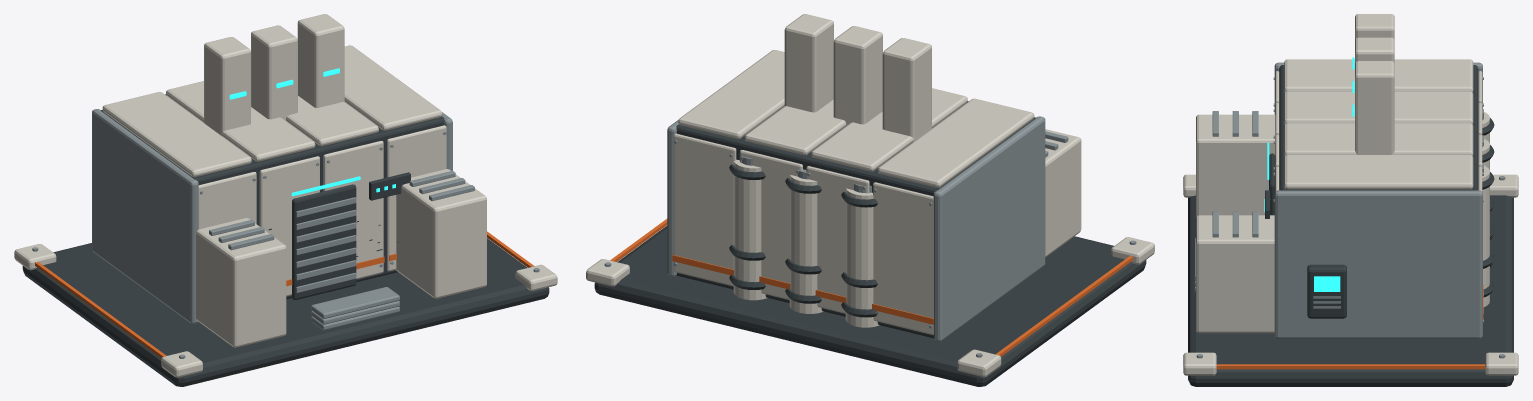
The model's file is SM_HighDensityPowerPlant_Body.002.fbx.
3 renders of one model, left to right at view 1: azimuth 30°, elevation 25°; view 2: azimuth 150°, elevation 25°; view 3: azimuth 270°, elevation 25°, orthographic. The views are drawn at different scales.
Visible parts, largest first — view 1: SM_HighDensityPowerPlant_Body.002; view 2: SM_HighDensityPowerPlant_Body.002; view 3: SM_HighDensityPowerPlant_Body.002.
Part boxes in pixels (box(x1,y1,x2,y2)): SM_HighDensityPowerPlant_Body.002: box(14, 14, 557, 386); SM_HighDensityPowerPlant_Body.002: box(586, 14, 1154, 386); SM_HighDensityPowerPlant_Body.002: box(1183, 14, 1518, 386).
Size of the model in its own units: 572 by 422 by 350.
